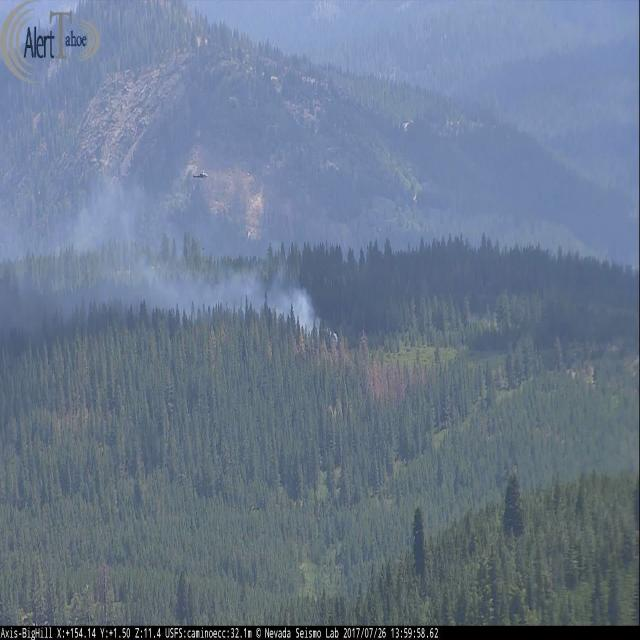smoke: (58, 186, 324, 342)
